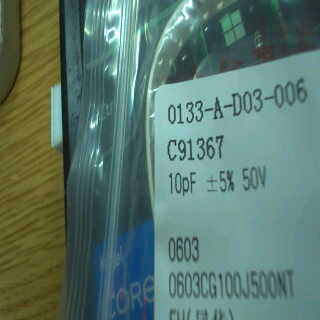10pF: (167, 170, 204, 196)
